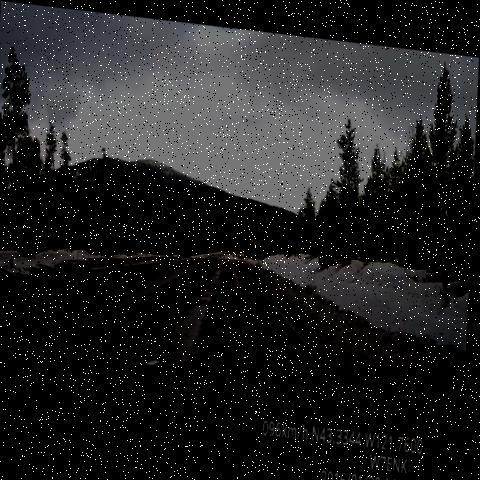pothole: (140, 344, 170, 375), (197, 265, 222, 294), (190, 287, 208, 307), (209, 253, 224, 272)
